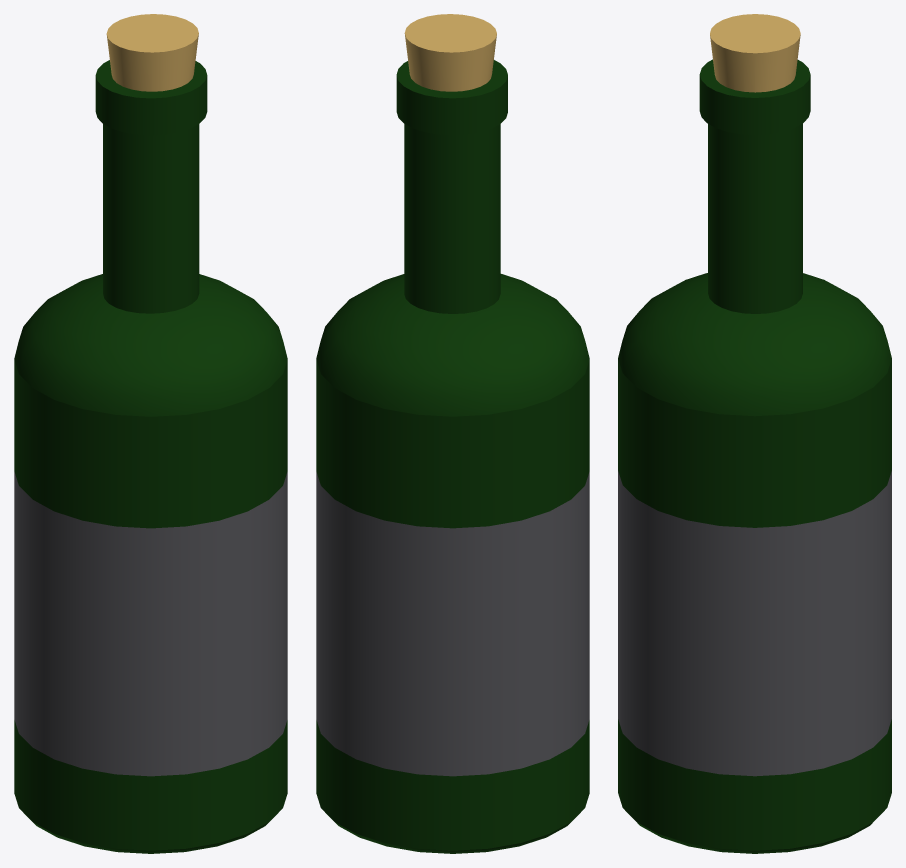
File: wine bottle G.fbx
3 views of the same model, side by side, from view 1: azimuth 30°, elevation 25°; view 2: azimuth 150°, elevation 25°; view 3: azimuth 270°, elevation 25° (orthographic).
Parts seen in each view (by area): view 1: mergedBlocks; view 2: mergedBlocks; view 3: mergedBlocks.
Part boxes in pixels (x1,y1,x2,y2): mergedBlocks: [14, 14, 287, 853]; mergedBlocks: [316, 14, 589, 853]; mergedBlocks: [618, 14, 891, 853].
Bounding box in the file's own units: 10 × 31.41 × 10.
